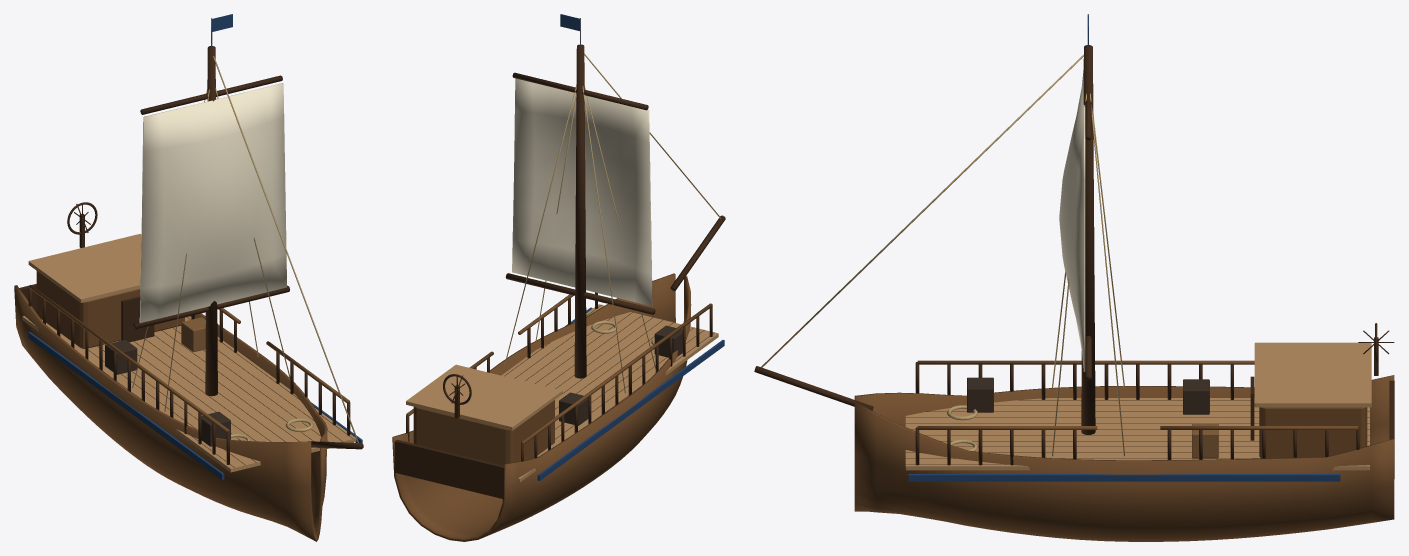
The model's file is segelschiff.glb.
The picture shows the model from 3 angles, left to right: view 1: azimuth 30°, elevation 25°; view 2: azimuth 150°, elevation 25°; view 3: azimuth 270°, elevation 25°; orthographic projection. The views are drawn at different scales.
Parts seen in each view (by area): view 1: rumpf; view 2: rumpf; view 3: rumpf.
Boxes of the visible parts, box(x1,y1,x2,y2) form: rumpf: box(14, 14, 363, 541); rumpf: box(392, 14, 725, 541); rumpf: box(754, 14, 1394, 541).
Bounding box in the file's own units: 4.4 × 12.7 × 14.24.
